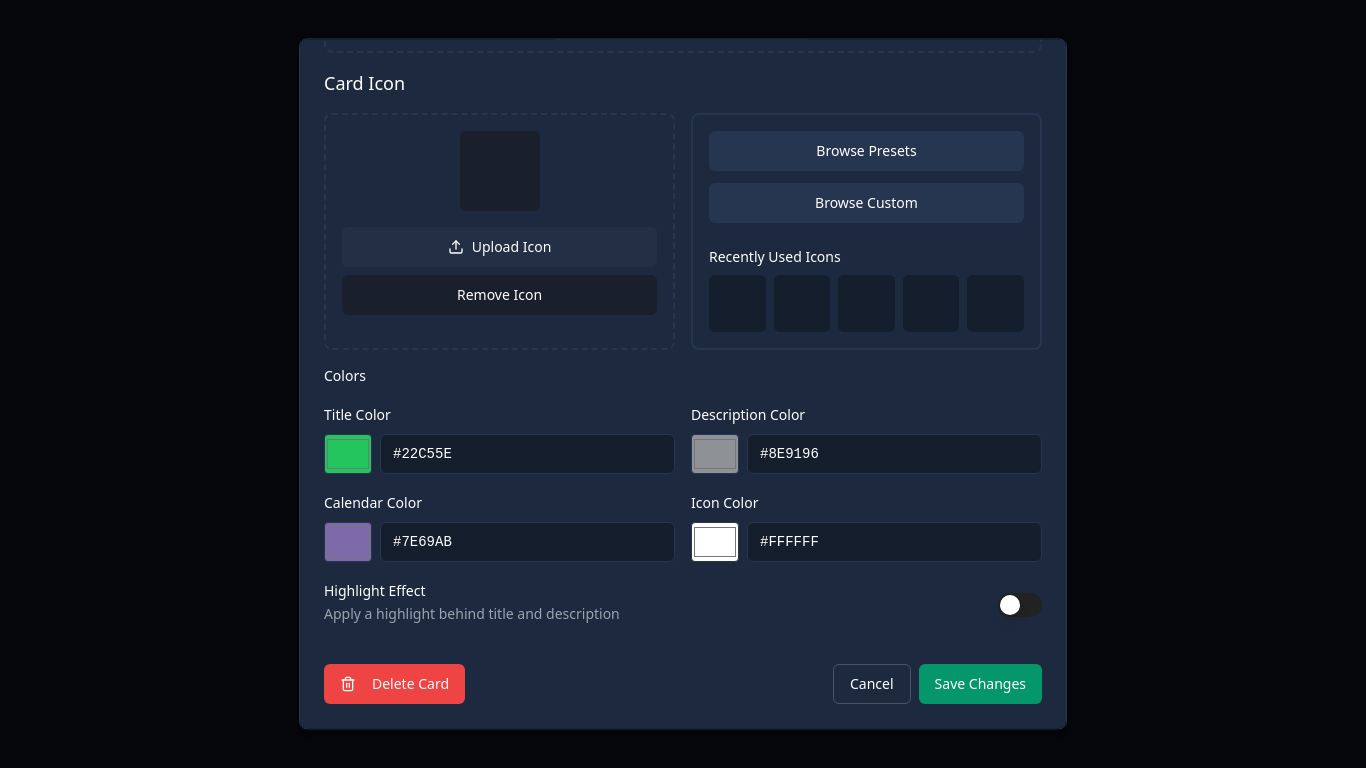
Test: active personal card editor › locks an uncertain draft and retries the same ID, revision and payload without duplicate click sends
This screenshot has width=1366, height=768.
Later steps or results of the test are not shown.
(page scrolled)
Click the button "Save Changes" at (980, 684), box [919,664,1042,704]
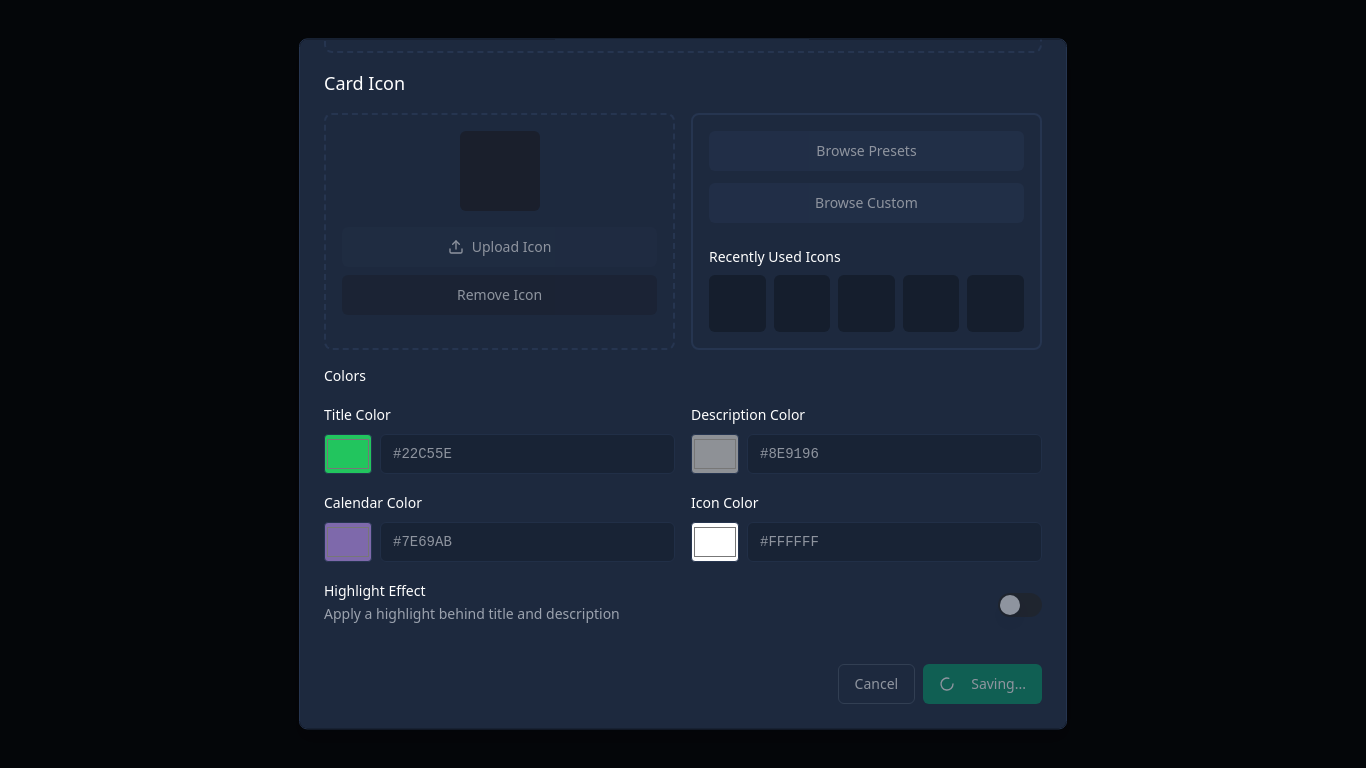
Click the button "Saving..." at (983, 684), box [923,664,1042,704]
(page scrolled)
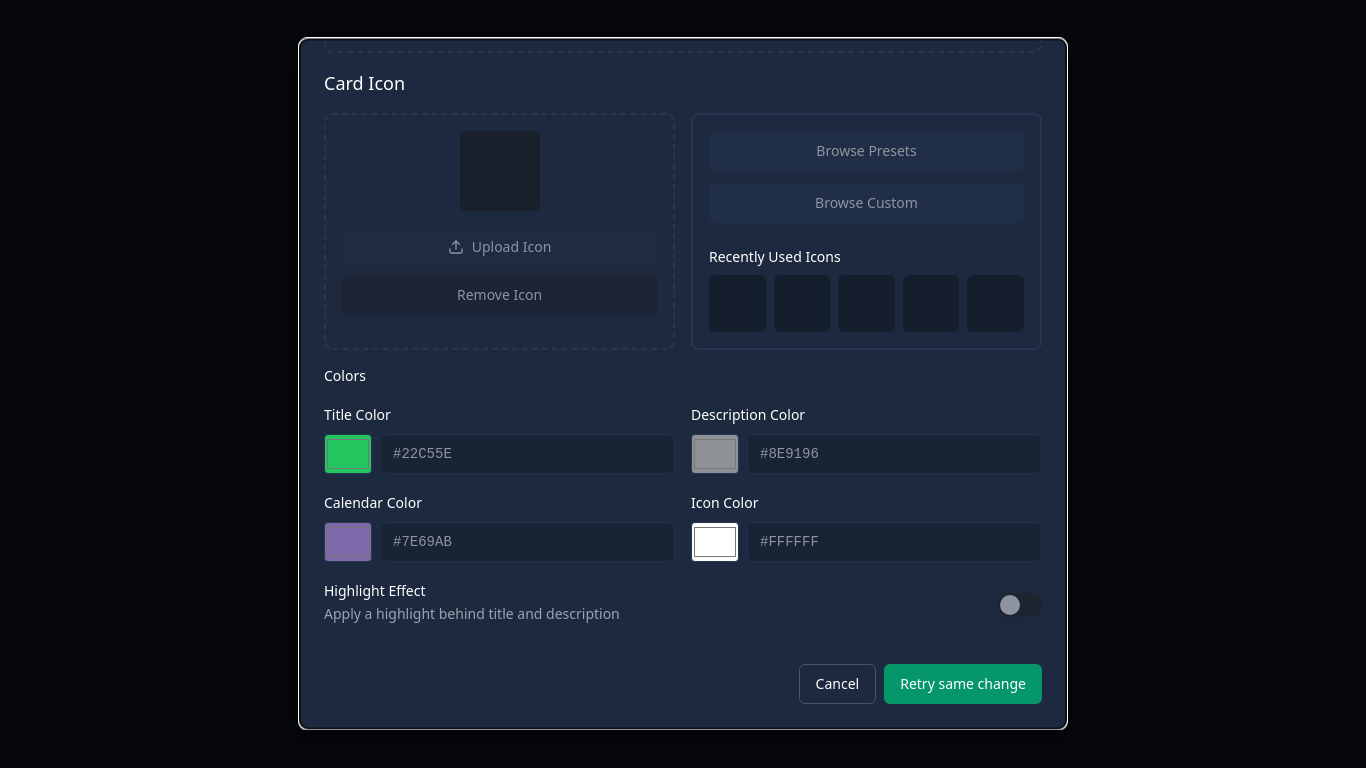
Result: the button "Retry same change" is shown at [884,664,1042,704]
